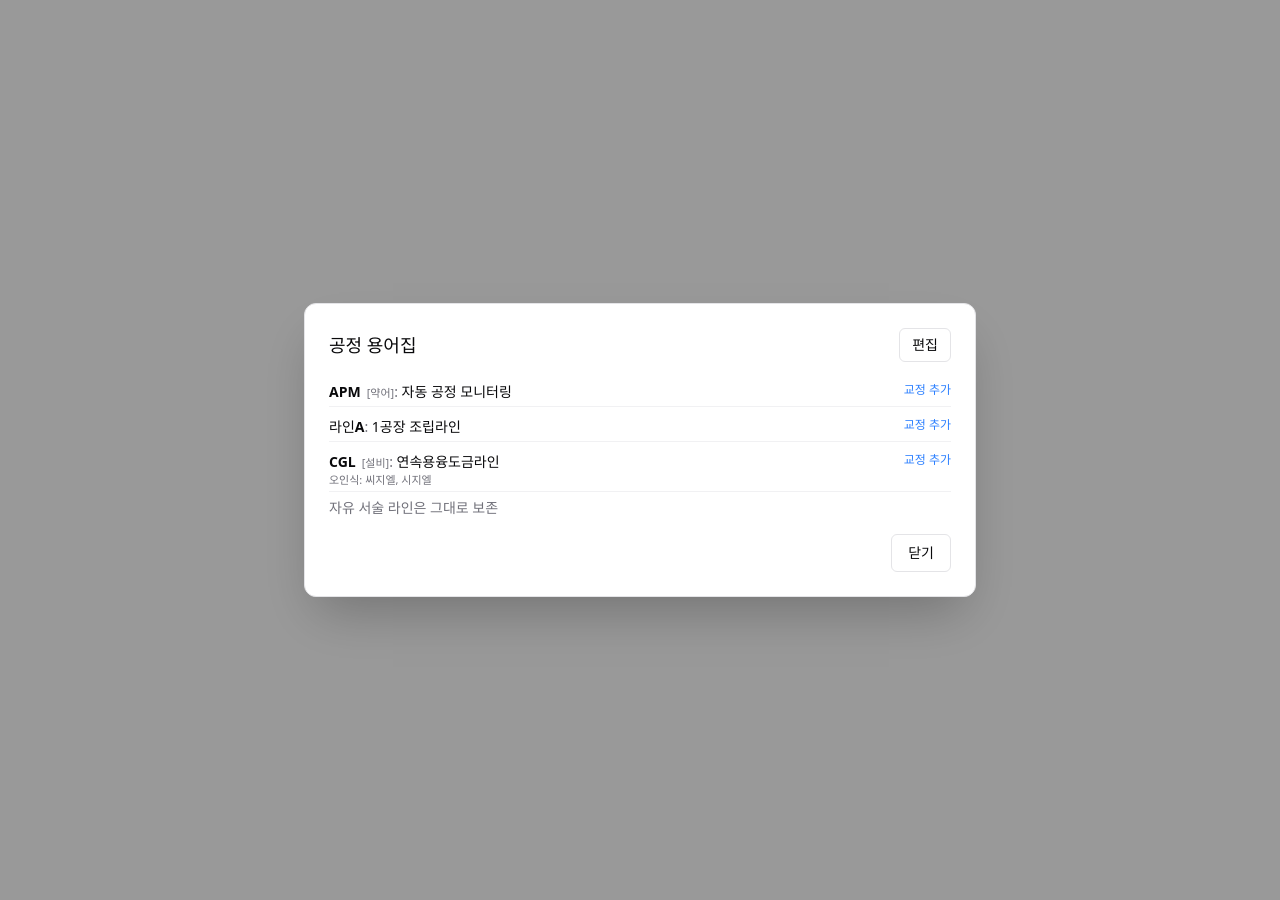
DomainFileViewerModal › 오인식 변형이 있는 용어의 [교정 추가]는 첫 변형으로 입력값을 프리필하고 나머지를 선택 칩으로 보여준다
expect the text "CGL" is shown: met, box top-left (329, 452), bottom-right (356, 471)
Click the button "교정 추가" in the row of "연속용융도금라인". click: (927, 460)
box: top-left (904, 452), bottom-right (951, 468)
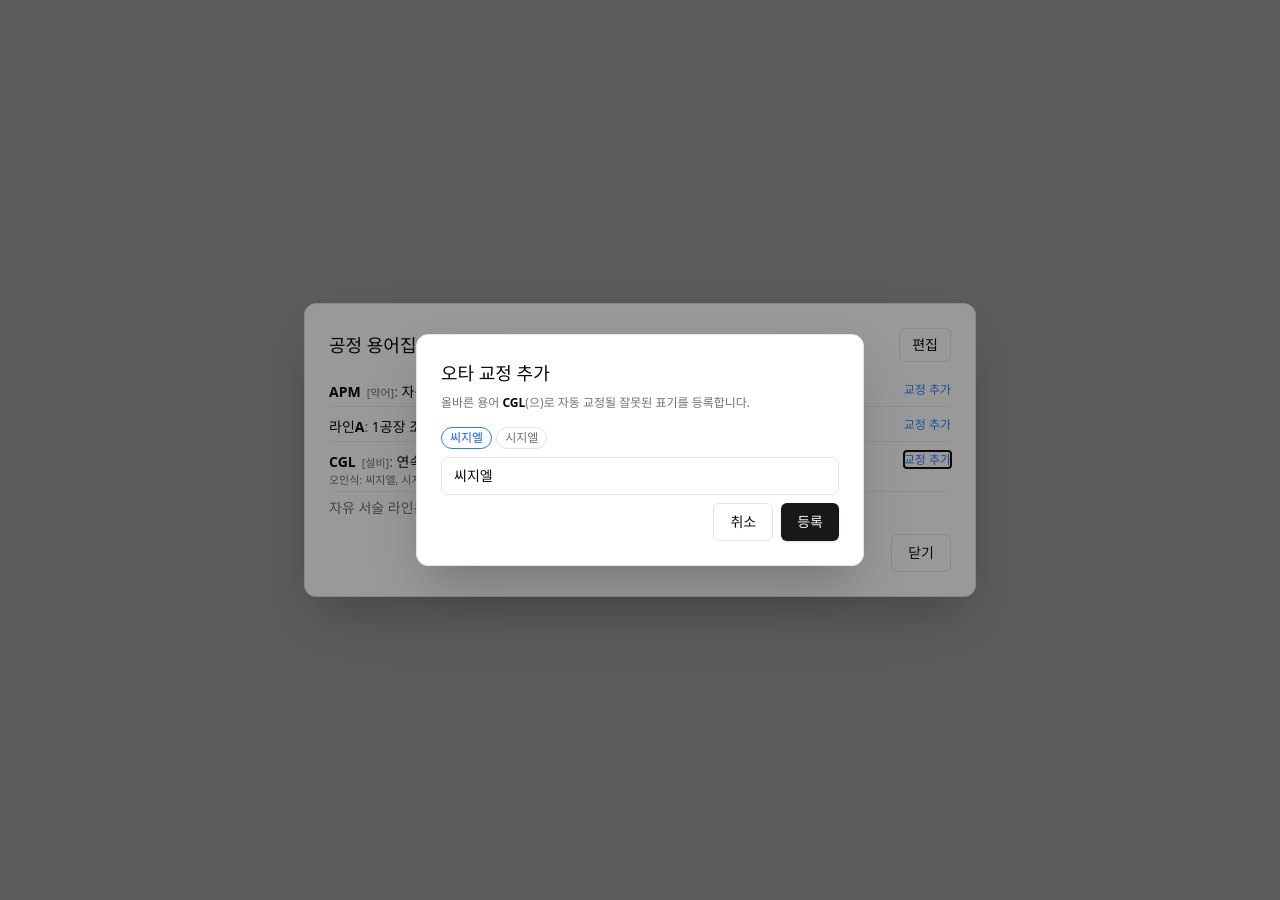
expect the field with placeholder "잘못 인식되는 표기" holds "씨지엘": met, box top-left (441, 457), bottom-right (839, 495)
Click the button "시지엘". click: (522, 438)
box: top-left (496, 427), bottom-right (547, 449)
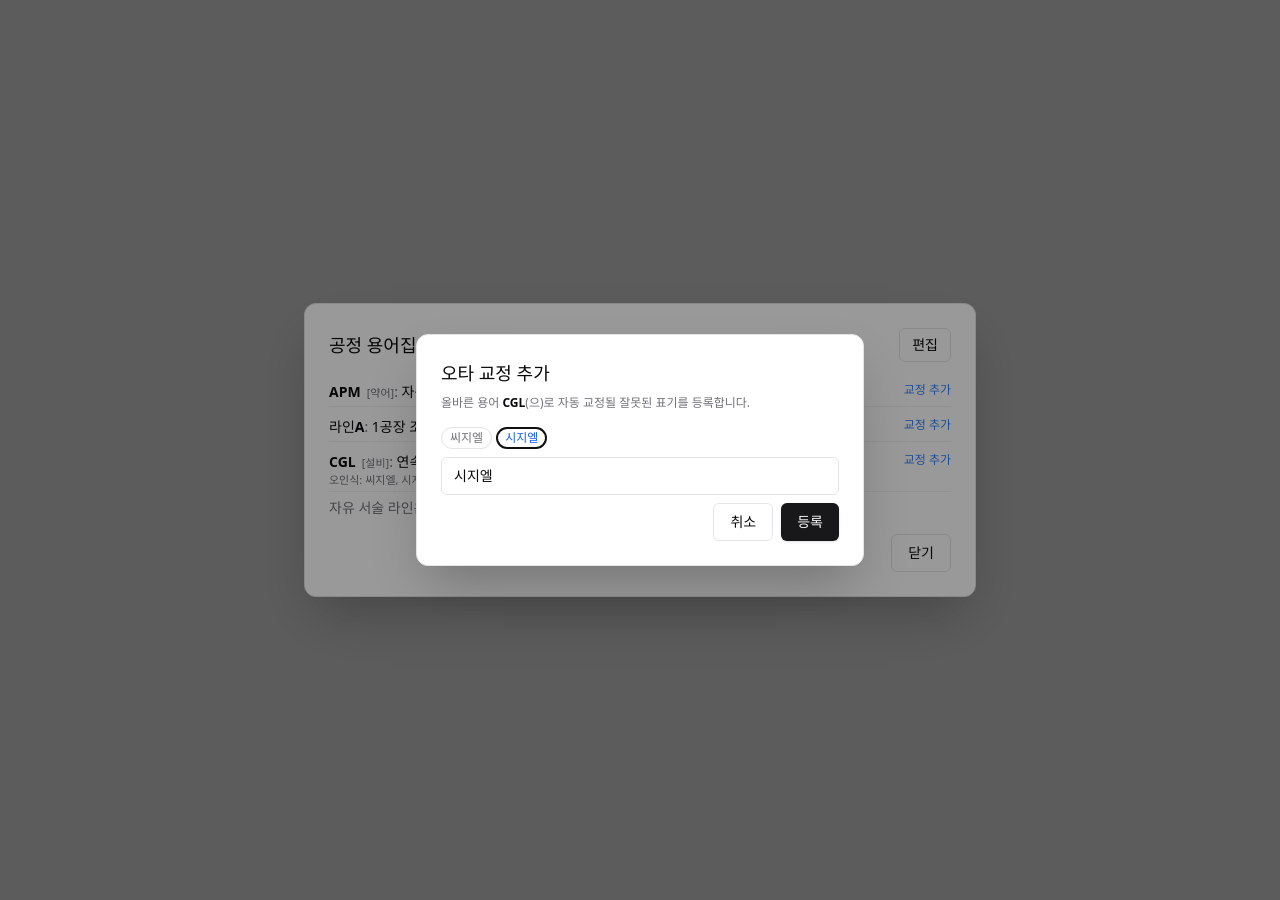
expect the field with placeholder "잘못 인식되는 표기" holds "시지엘": met, box top-left (441, 457), bottom-right (839, 495)
